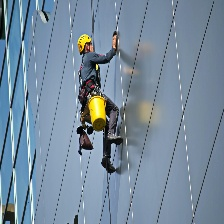helmet: (76, 32, 94, 56)
no-vest: (78, 56, 102, 93)
person: (76, 31, 121, 172)
